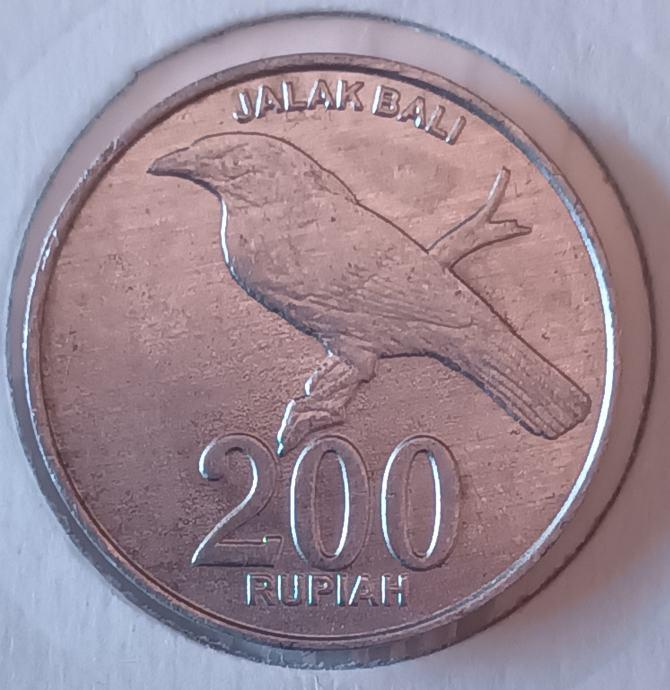coin_200_e2003: (22, 48, 624, 654)
